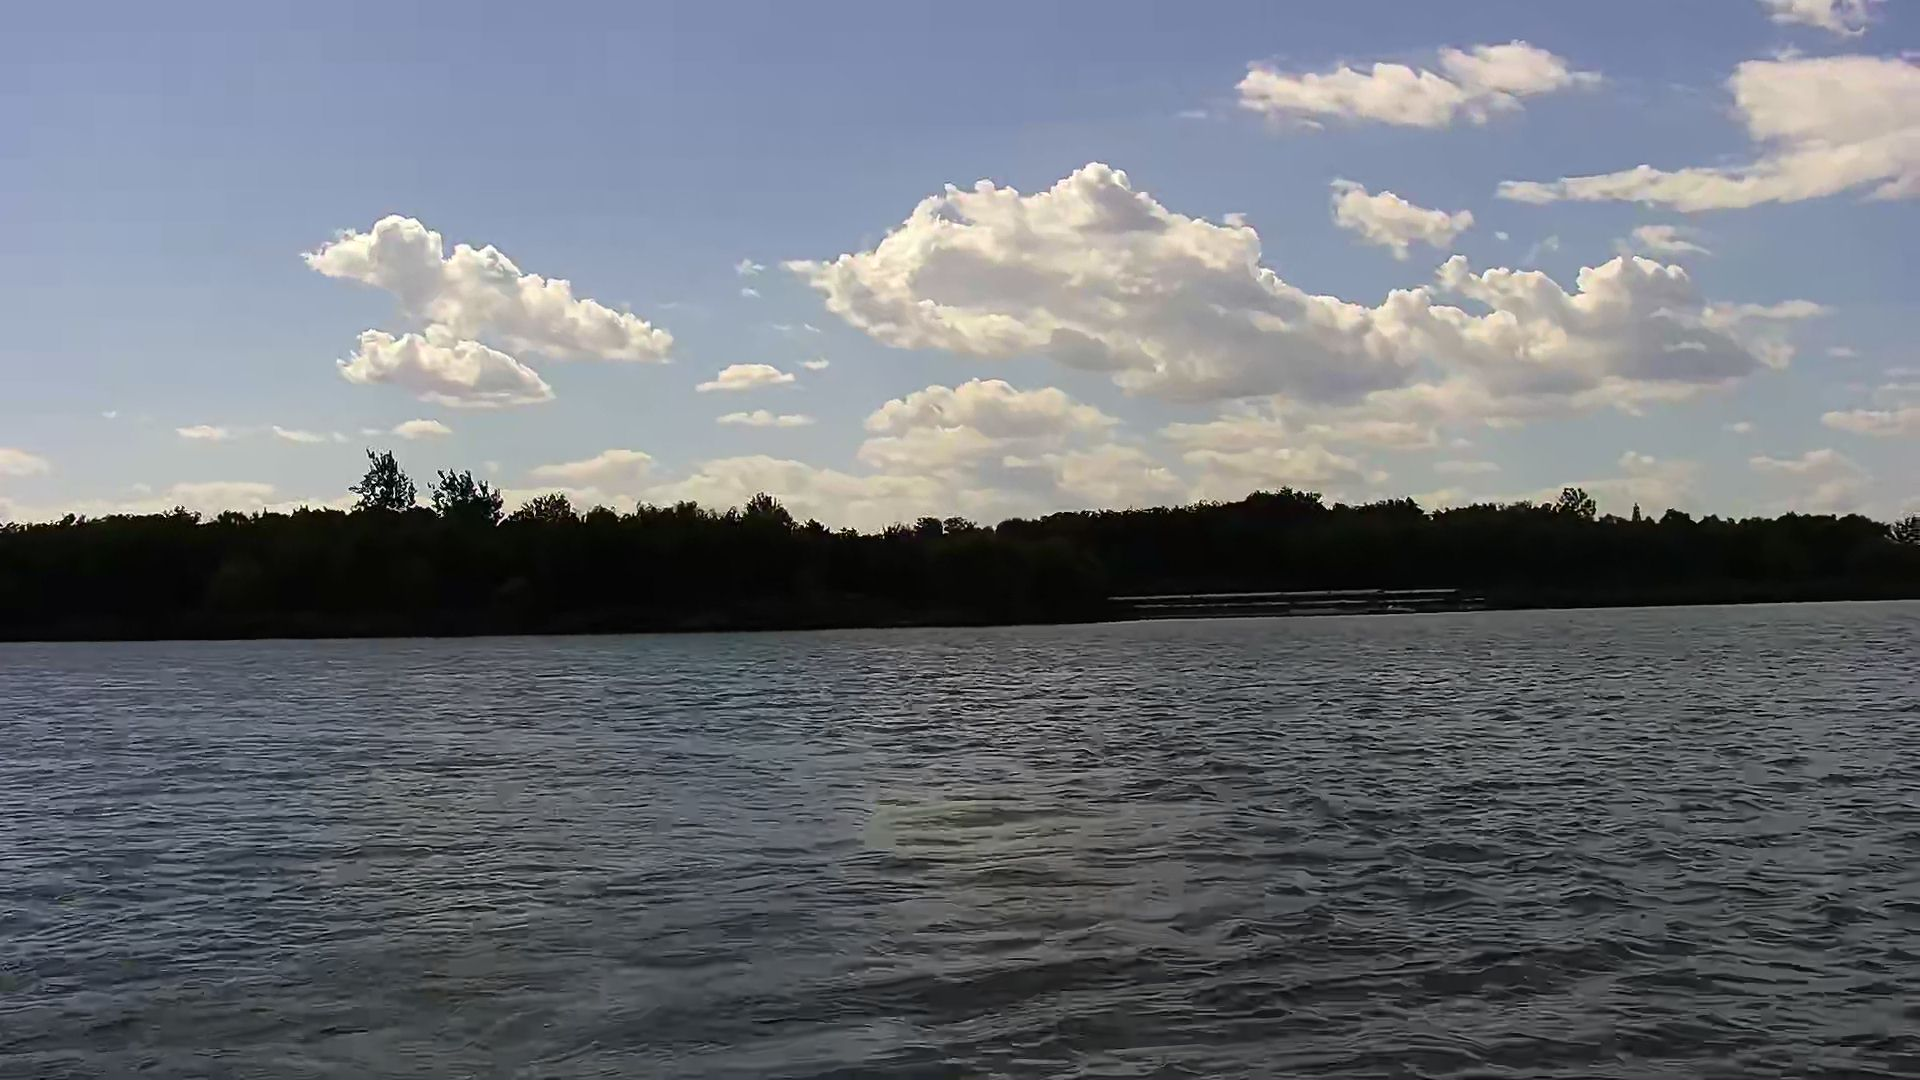bridge: (1112, 592, 1451, 617)
